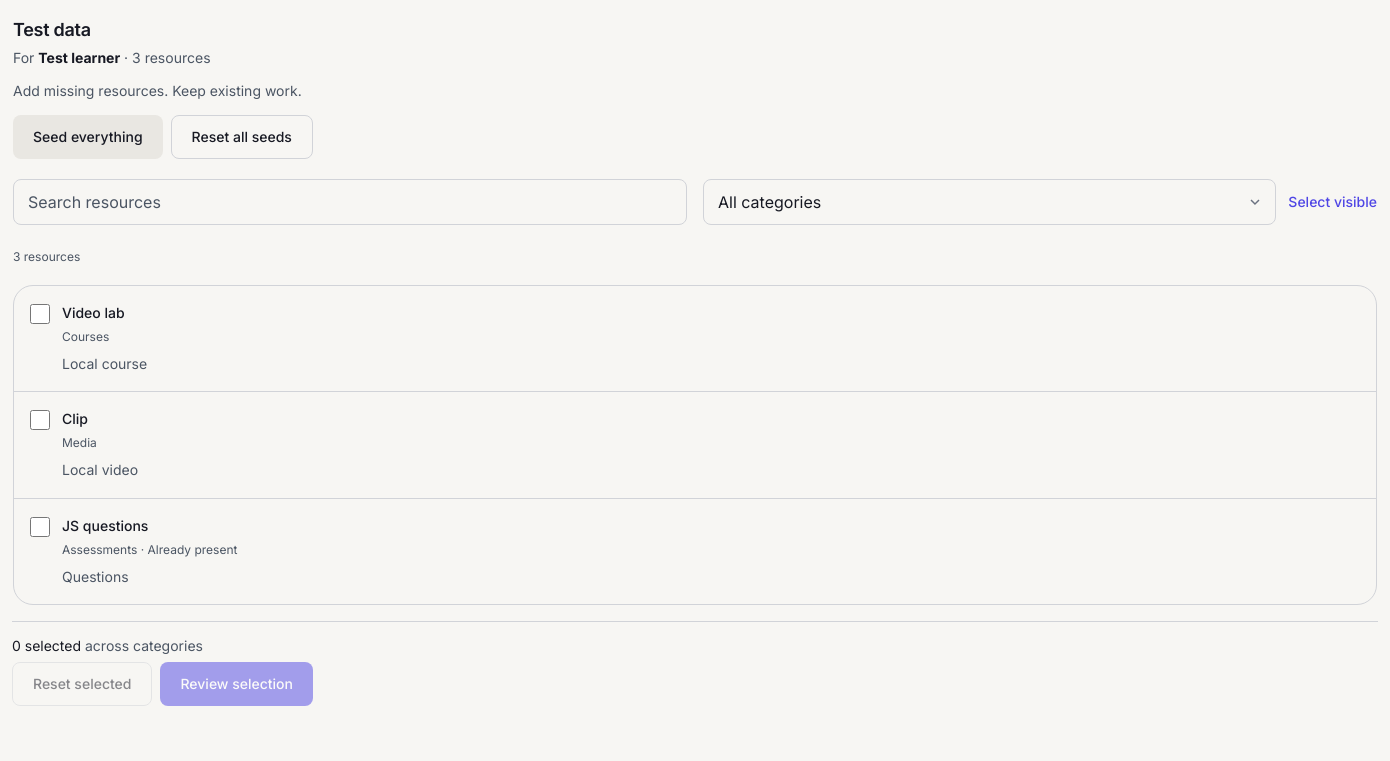
Test: Developer seed picker › reviews affected data and requires confirmation before resetting all installed seeds
This screenshot has width=1390, height=761.
Click the button "Reset all seeds".
click(242, 137)  # box [171,115,313,159]
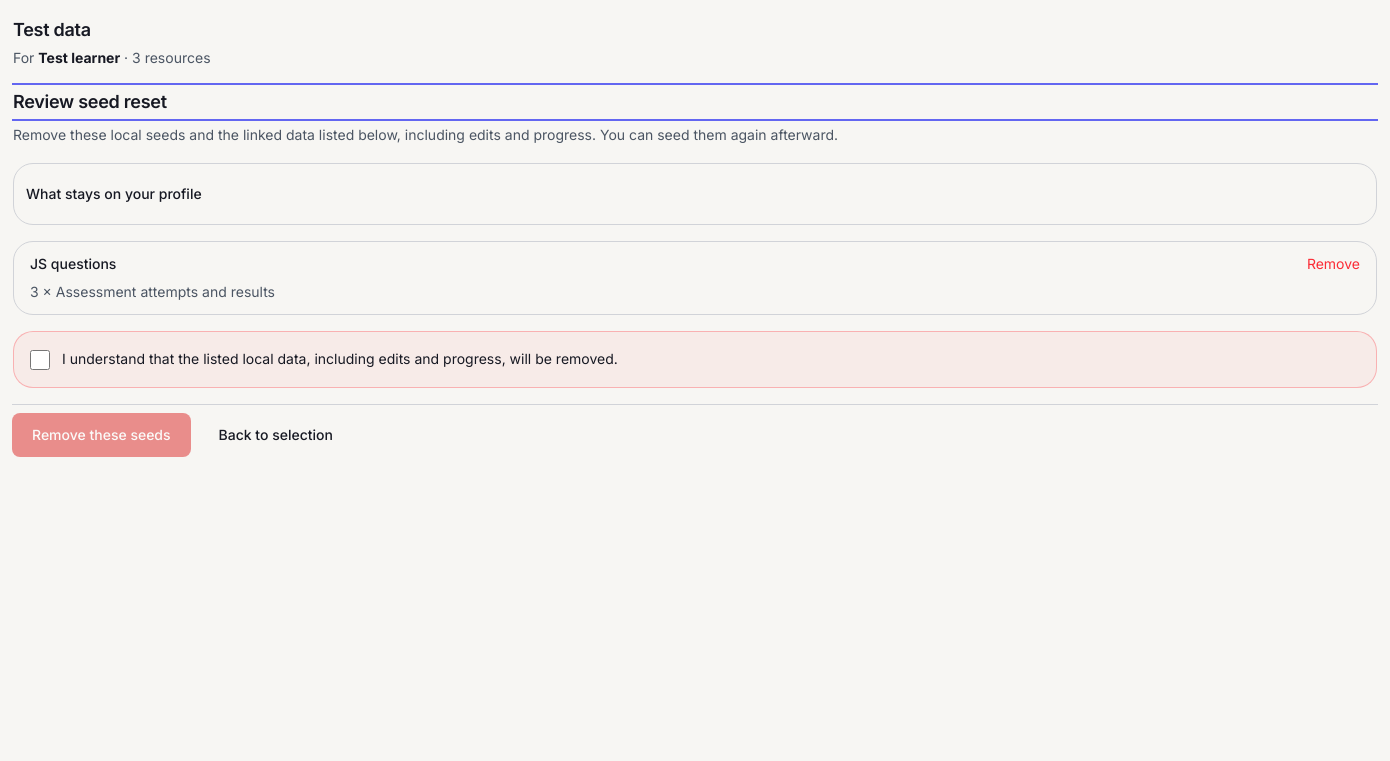
Expected: the text "3 × Assessment attempts and results" is shown, [30,283,275,300]
Expected: the button "Remove these seeds" is disabled, [12,412,191,456]
Click the checkbox.
click(40, 360)  # box [30,350,50,370]
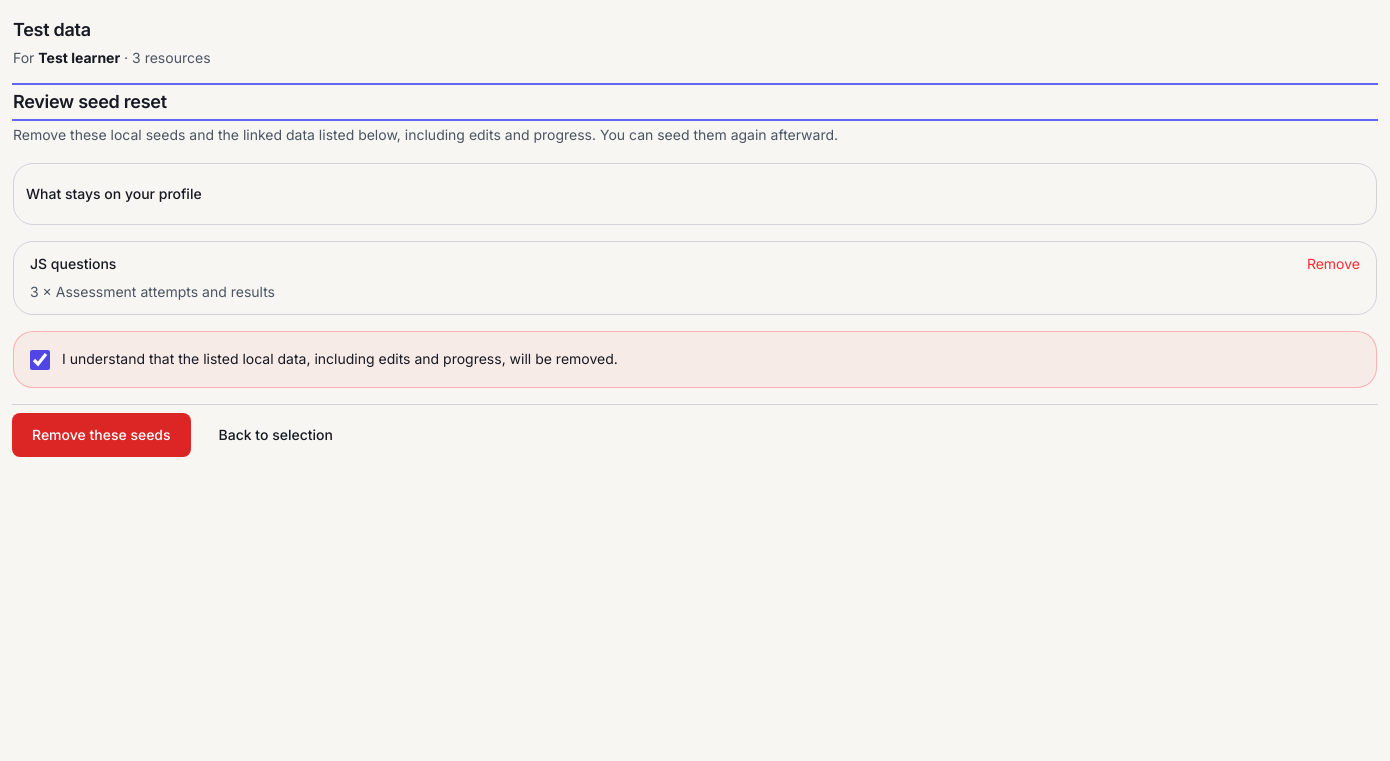
Click the button "Remove these seeds".
click(101, 434)  # box [12,412,191,456]
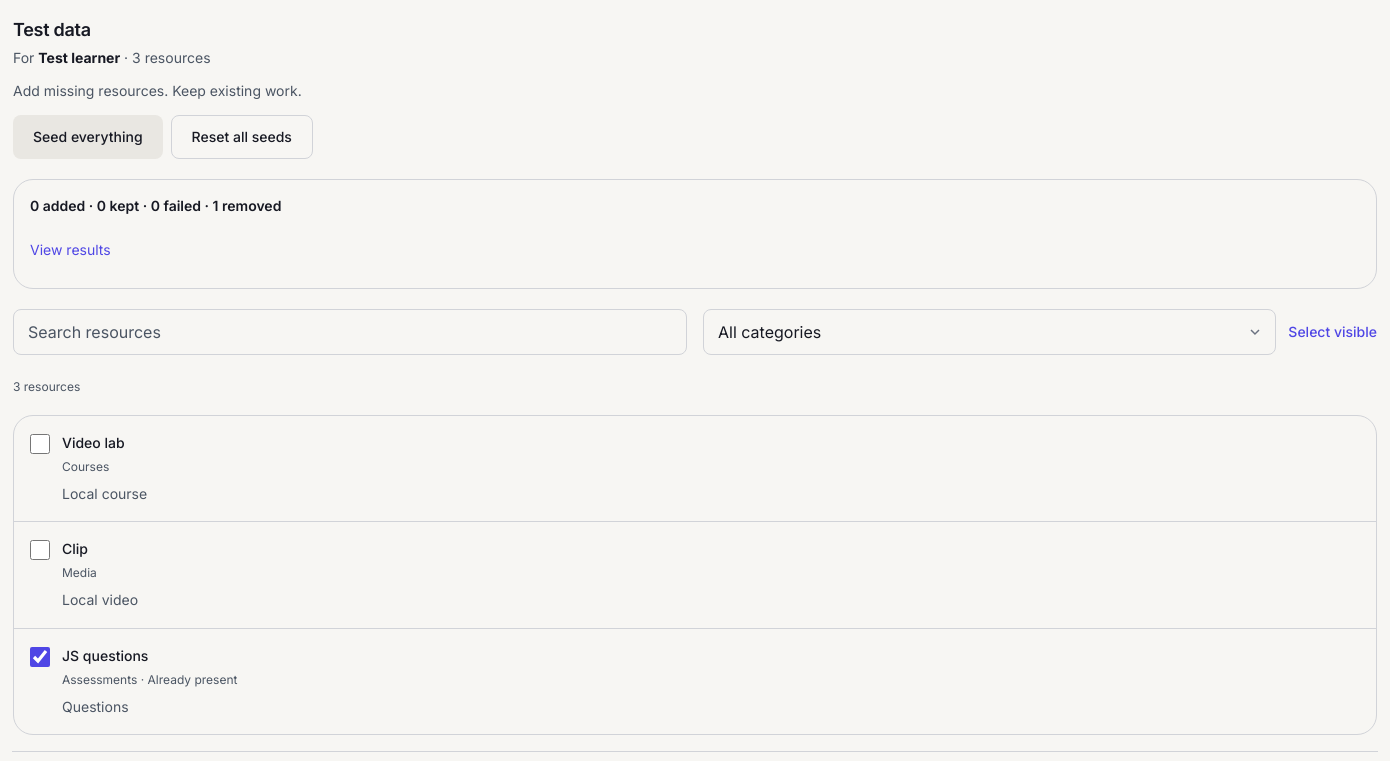
Expected: the text "1 removed" is shown, [201,197,281,214]
